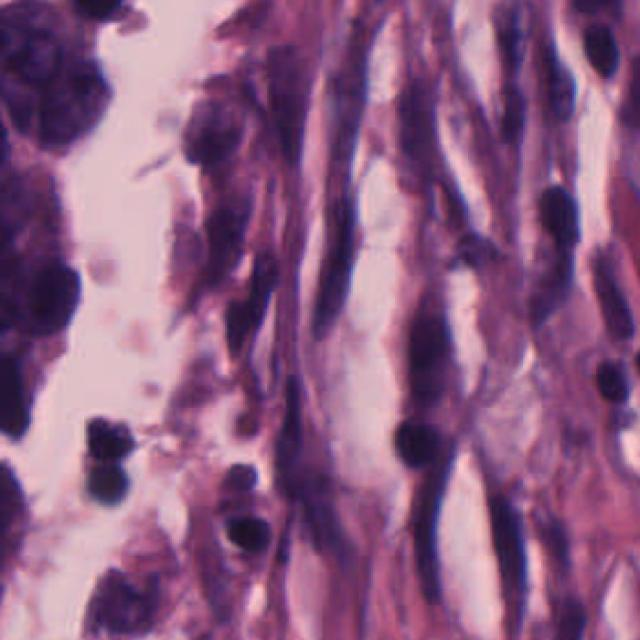fibroblast: (475, 485, 530, 607), (256, 36, 307, 161), (315, 201, 358, 339), (400, 479, 448, 601), (585, 245, 640, 341), (400, 319, 448, 405), (104, 569, 166, 635), (324, 44, 360, 156), (201, 194, 249, 276), (267, 370, 304, 475), (379, 79, 430, 155), (201, 84, 241, 173), (527, 497, 578, 566), (488, 0, 532, 72), (176, 92, 216, 168), (243, 248, 280, 324), (538, 53, 578, 122), (490, 76, 530, 141), (214, 296, 254, 359), (84, 564, 117, 640)
lymphocyte: (33, 253, 80, 339), (528, 179, 583, 242), (388, 418, 439, 467), (79, 418, 133, 461), (592, 352, 633, 405), (79, 461, 126, 507), (227, 515, 274, 554)
tumor: (0, 43, 106, 145)
